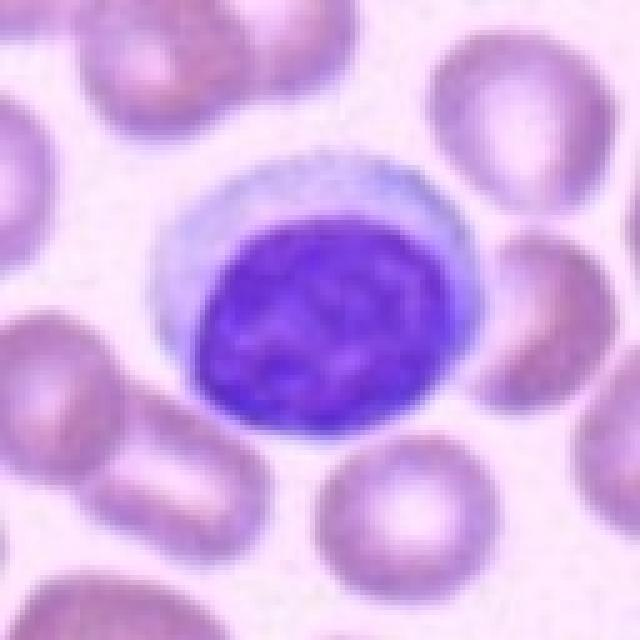lympho: (144, 141, 491, 448)
